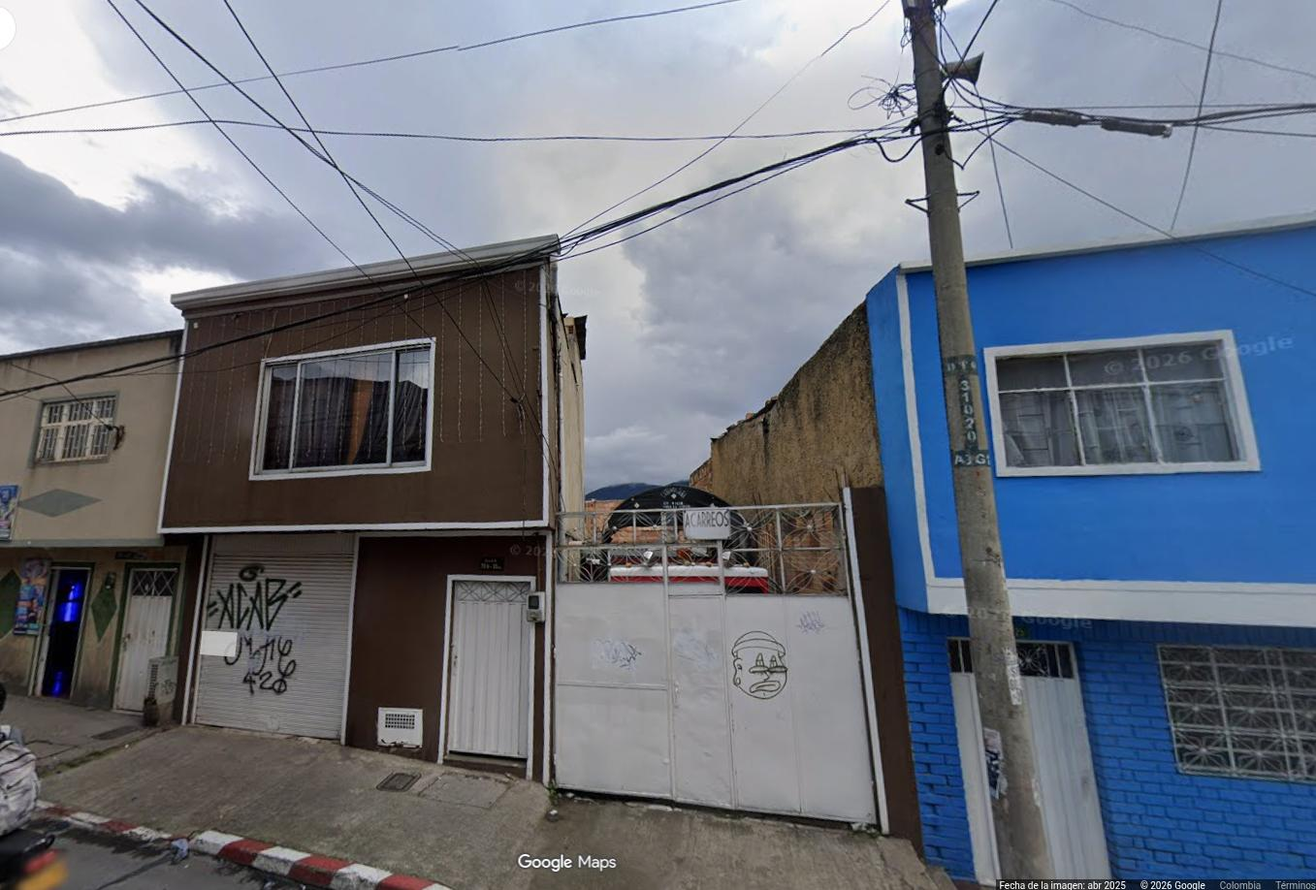casa: (954, 211, 1315, 877), (147, 237, 586, 777), (859, 263, 1013, 882)
poste: (904, 0, 1052, 876)
